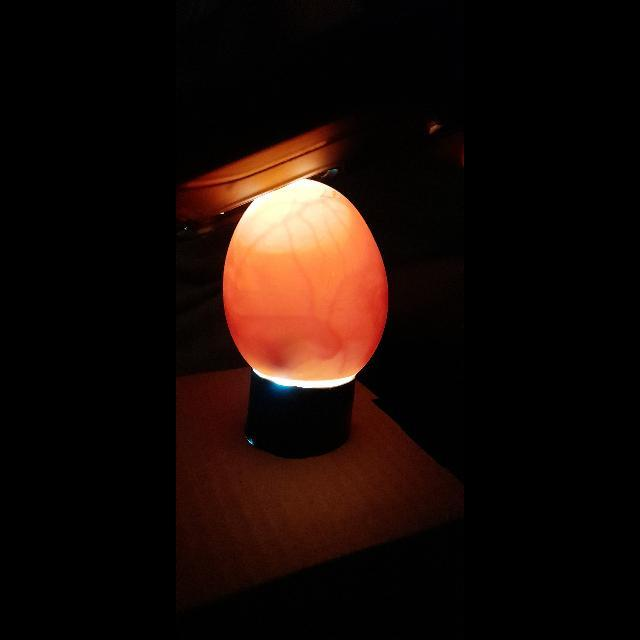Fertile: (225, 182, 391, 390)
